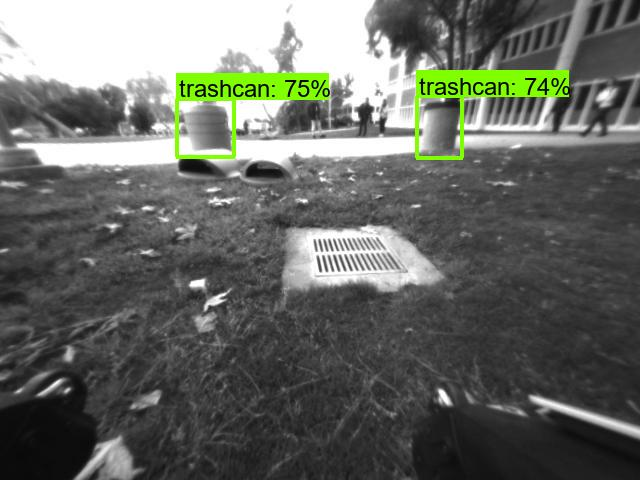trashcan: (185, 105, 234, 158), (421, 101, 458, 156)
